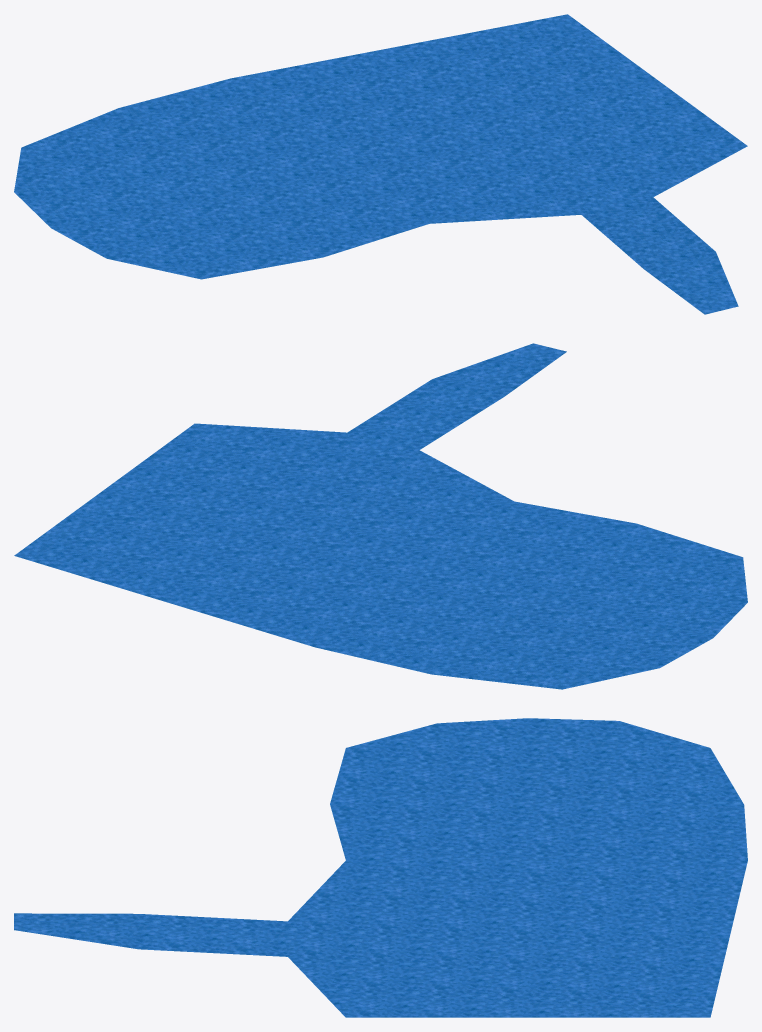
The model's file is WAter.fbx.
3 renders of one model, top to bottom at view 1: azimuth 30°, elevation 25°; view 2: azimuth 150°, elevation 25°; view 3: azimuth 270°, elevation 25°, orthographic.
Visible parts, largest first — view 1: Plane.003; view 2: Plane.003; view 3: Plane.003.
Boxes of the visible parts, x1,y1,x2,y2 form: Plane.003: [14, 14, 747, 314]; Plane.003: [14, 343, 747, 689]; Plane.003: [14, 718, 747, 1017].
Size of the model in its own units: 59375 by 239 by 61473.
